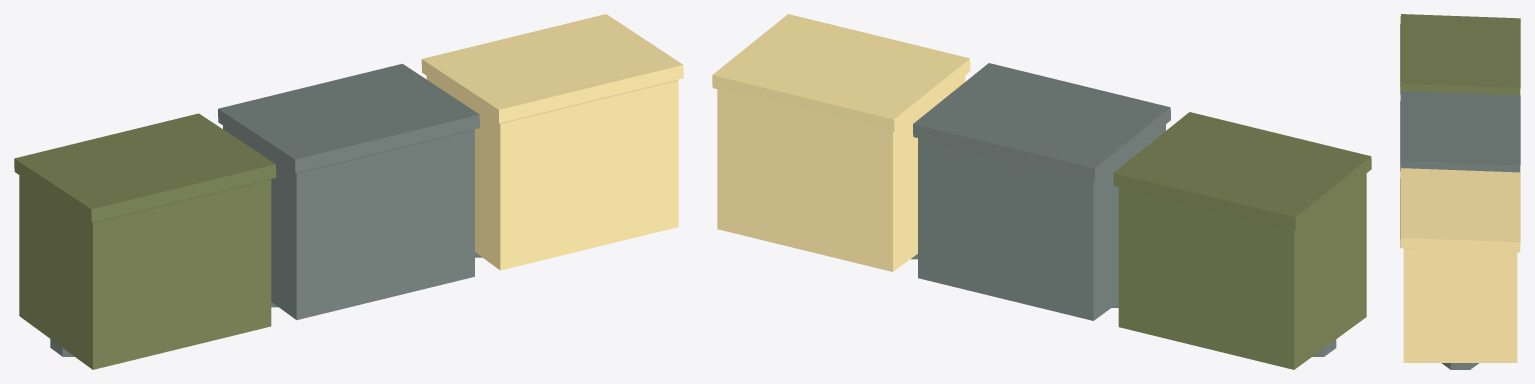
The model's file is SM_Contenedor_v4_Fila_LOD1.fbx.
3 views of the same model, side by side, from view 1: azimuth 30°, elevation 25°; view 2: azimuth 150°, elevation 25°; view 3: azimuth 270°, elevation 25° (orthographic). The views are drawn at different scales.
Parts seen in each view (by area): view 1: SM_urbano_extra_v4_LOD1; view 2: SM_urbano_extra_v4_LOD1; view 3: SM_urbano_extra_v4_LOD1.
Boxes of the visible parts, left/top/right/bottom form: SM_urbano_extra_v4_LOD1: left=14, top=14, right=683, bottom=369; SM_urbano_extra_v4_LOD1: left=712, top=14, right=1371, bottom=369; SM_urbano_extra_v4_LOD1: left=1400, top=14, right=1520, bottom=369.
Size of the model in its own units: 4.65 by 1.29 by 1.05.
